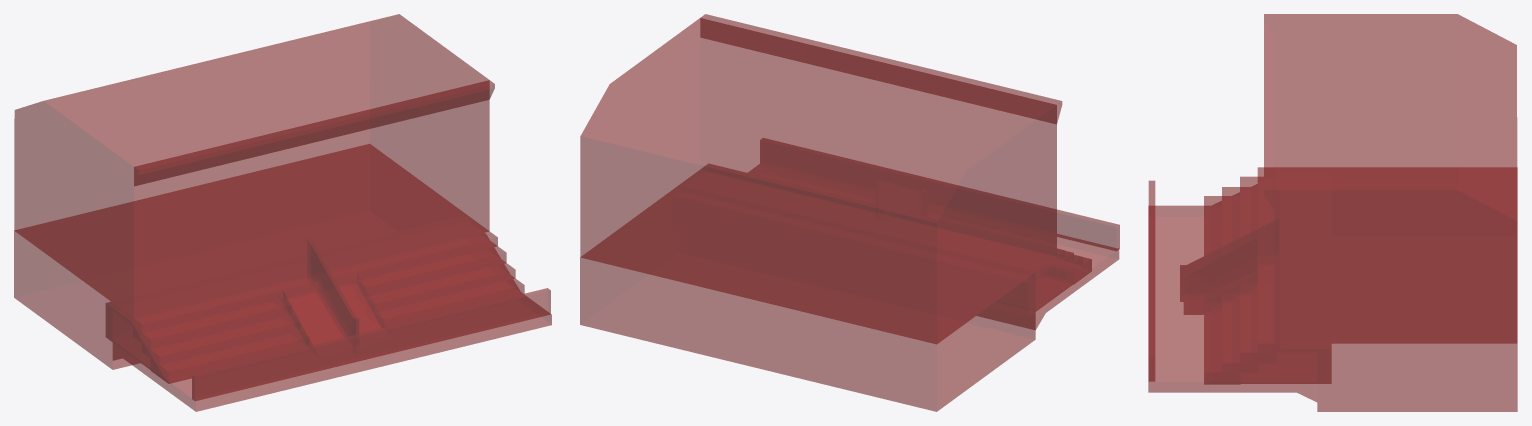
Rendered from SM_Bld_Grandstand_VIP_Box_02_Collision.fbx.
3 views of the same model, side by side, from view 1: azimuth 30°, elevation 25°; view 2: azimuth 150°, elevation 25°; view 3: azimuth 270°, elevation 25° (orthographic).
Parts seen in each view (by area): view 1: SM_Bld_Grandstand_VIP_Box_02_Collision; view 2: SM_Bld_Grandstand_VIP_Box_02_Collision; view 3: SM_Bld_Grandstand_VIP_Box_02_Collision.
Part boxes in pixels (x1,y1,x2,y2): SM_Bld_Grandstand_VIP_Box_02_Collision: [14, 14, 551, 411]; SM_Bld_Grandstand_VIP_Box_02_Collision: [580, 14, 1119, 411]; SM_Bld_Grandstand_VIP_Box_02_Collision: [1148, 14, 1517, 411].
Size of the model in its own units: 1253 by 734 by 1107.
